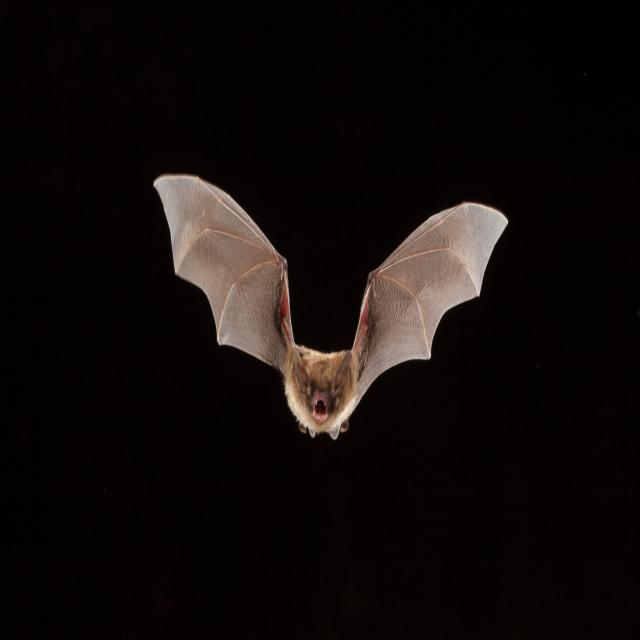Bat: (154, 169, 517, 451)
